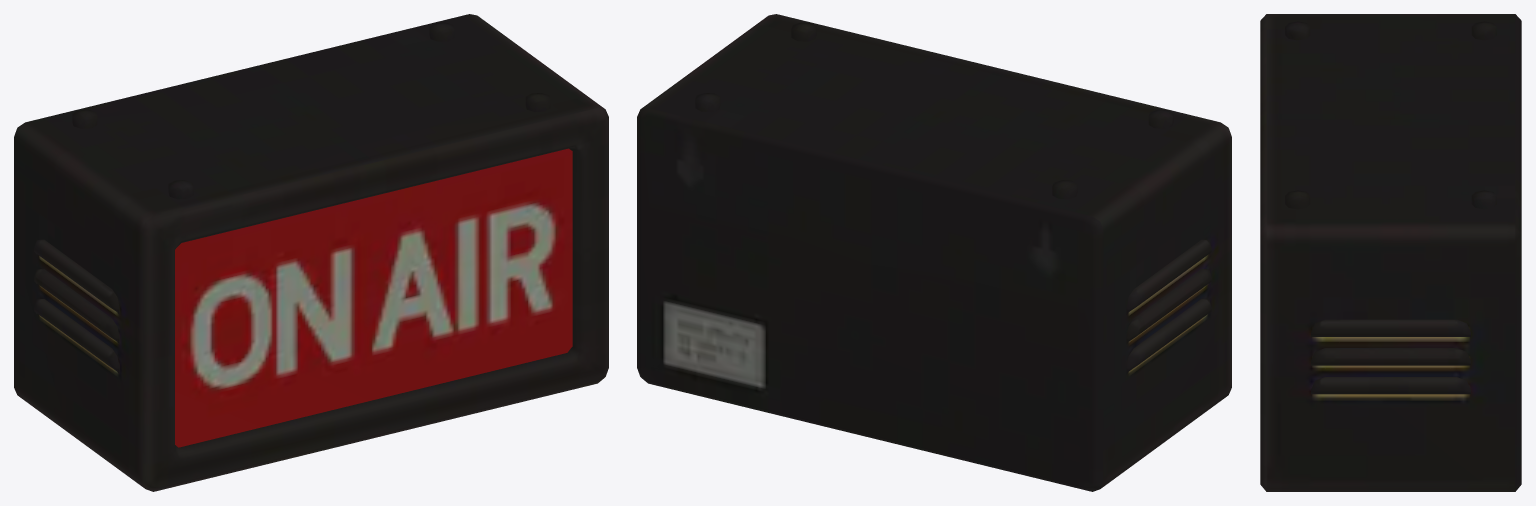
3 views of the same model, side by side, from view 1: azimuth 30°, elevation 25°; view 2: azimuth 150°, elevation 25°; view 3: azimuth 270°, elevation 25° (orthographic). The views are drawn at different scales.
Bounding box in the file's own units: 9.72 × 5.55 × 4.73.
Materials: 2 (2 with a texture image).
